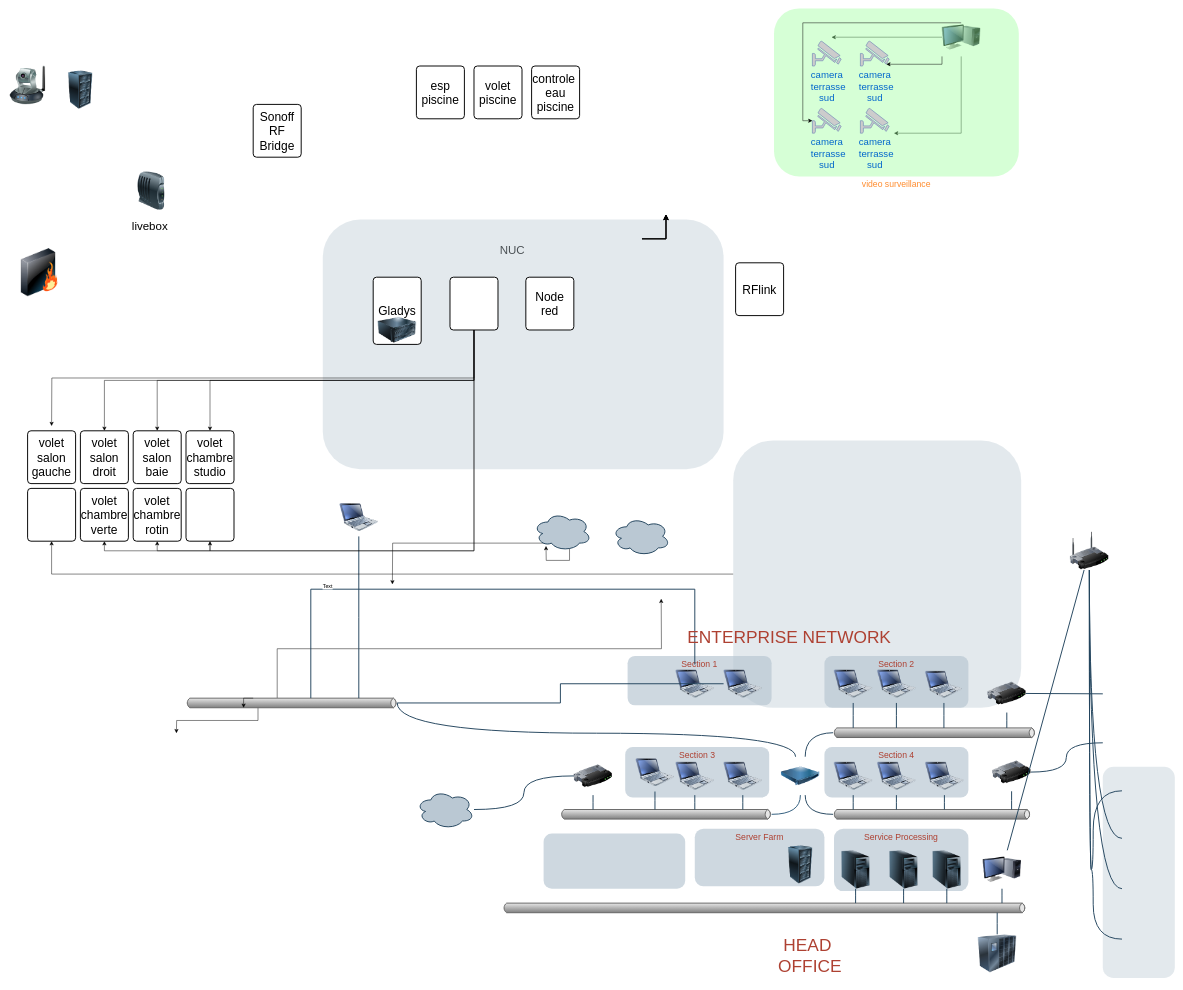
The diagram is 1183 pixels wide and 990 high, and some of its shapes have lost their labels. The centre of each missing label's shape, as x and y in pixels:
"Cloud 1" goes at (x=641, y=536).
"Cloud 2" goes at (x=445, y=809).
"Internet" goes at (x=562, y=531).
"Maintenance" goes at (x=1139, y=872).
"MQTT" goes at (x=473, y=303).
"Section 5" goes at (x=614, y=860).
"volet chamb re rouge" goes at (x=51, y=514).
"volet chamb re violette" goes at (x=209, y=514).
